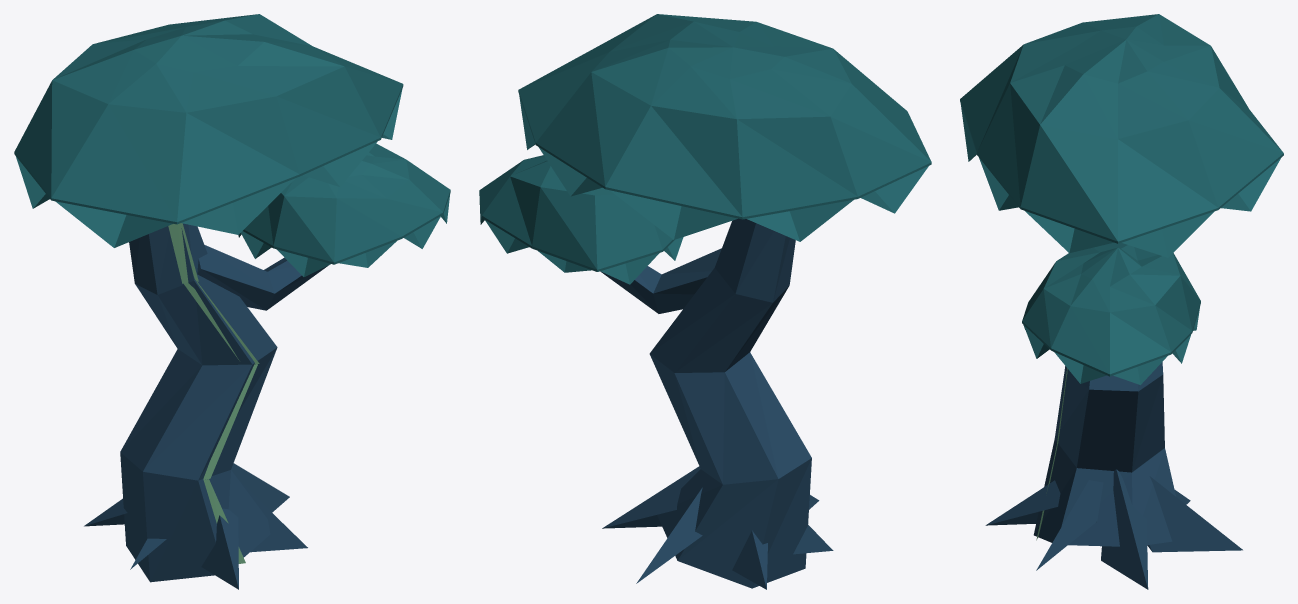
3 renders of one model, left to right at view 1: azimuth 30°, elevation 25°; view 2: azimuth 150°, elevation 25°; view 3: azimuth 270°, elevation 25°, orthographic.
Parts seen in each view (by area): view 1: Tree_Library_A; view 2: Tree_Library_A; view 3: Tree_Library_A.
Boxes of the visible parts, x1=… form: Tree_Library_A: x1=14, y1=14, x2=450, y2=589; Tree_Library_A: x1=479, y1=14, x2=931, y2=589; Tree_Library_A: x1=960, y1=14, x2=1283, y2=589.
Size of the model in its own units: 1.18 by 1.38 by 0.7872.
